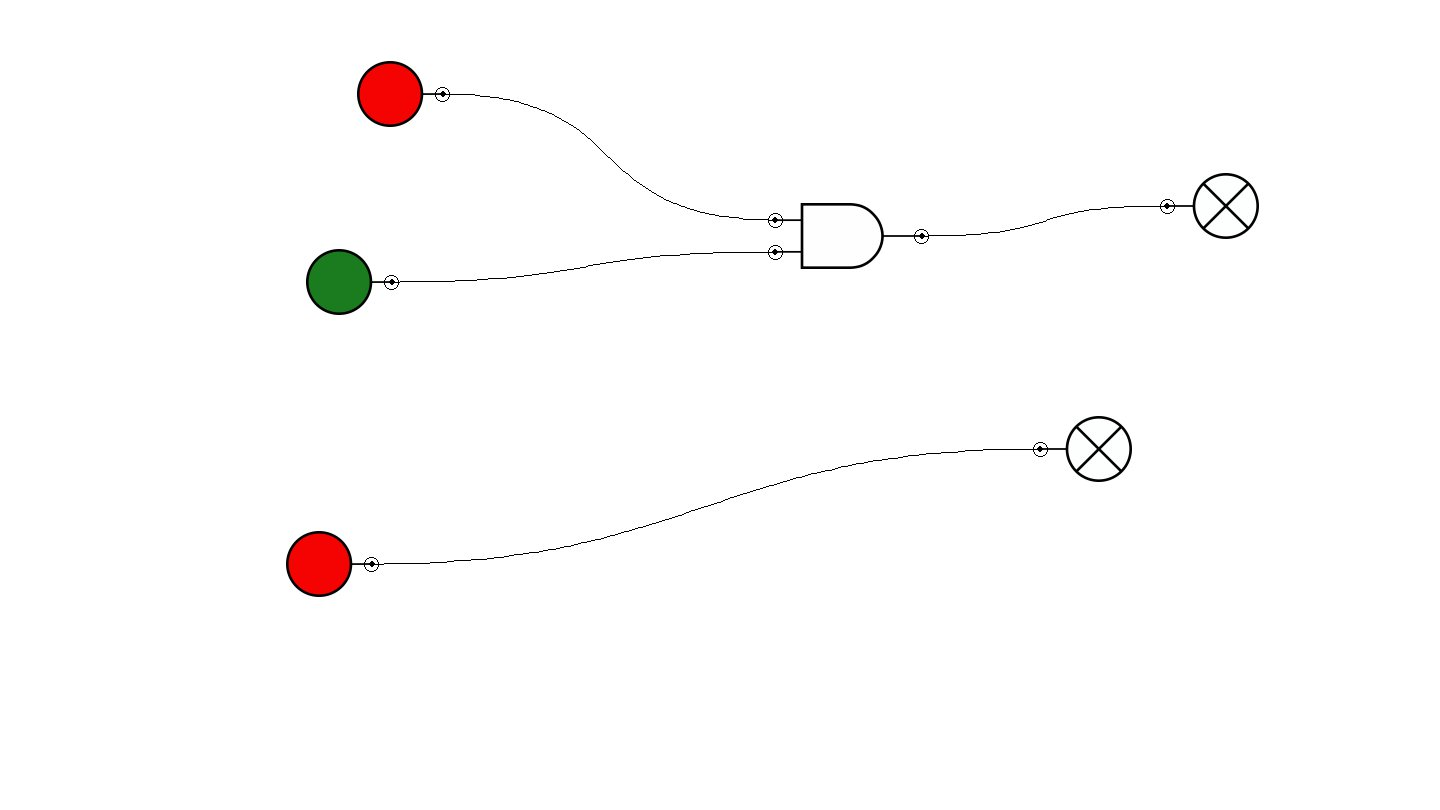and: (768, 203, 929, 269)
bulb: (1160, 173, 1259, 239), (1033, 416, 1132, 482)
switch_False: (286, 531, 379, 597), (357, 61, 450, 127)
switch_True: (306, 249, 399, 315)
